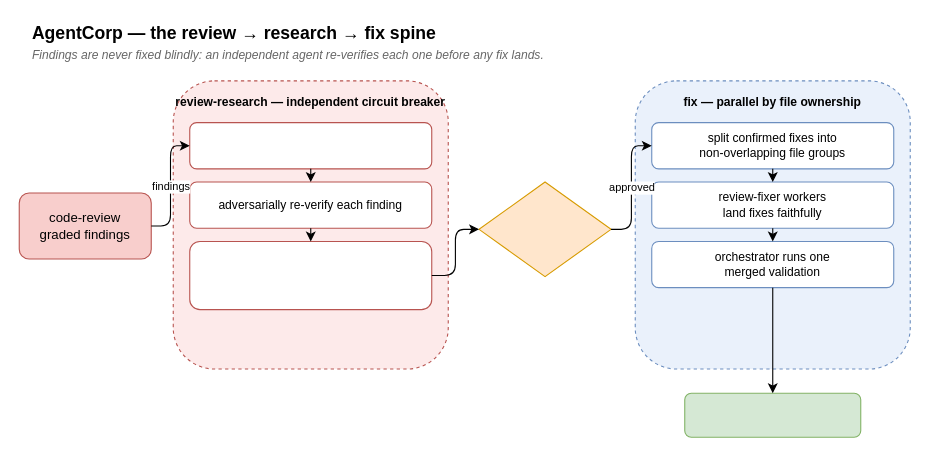
This 930x457 diagram has some shape labels left out. Each missing label, with the centre of its shape:
"cluster findings by code domain" belongs at point 310,145.
"fix-result.md" belongs at point 772,414.
"human gate confirm verdicts and fixes" belongs at point 544,229.
"verdict per issue: confirmed · partial · false-positive · needs-human" belongs at point 310,275.
